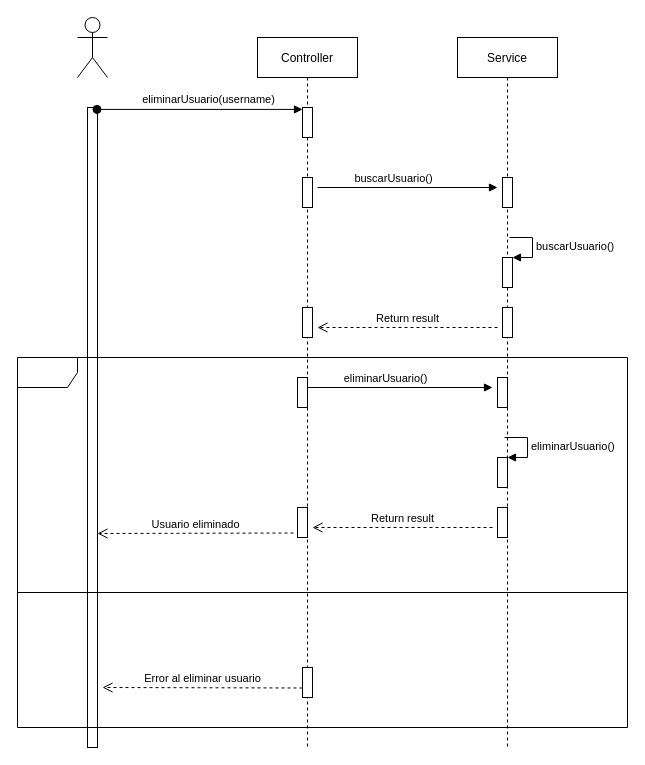
Some shapes in this 645 by 765 pixel diagram are drawn without their labels. Here are the shapes that lost their labels. From the top down, the centre of each, then its label:
At point (92, 47): "Cliente".
At point (322, 542): "alt(Existe usuario)".
